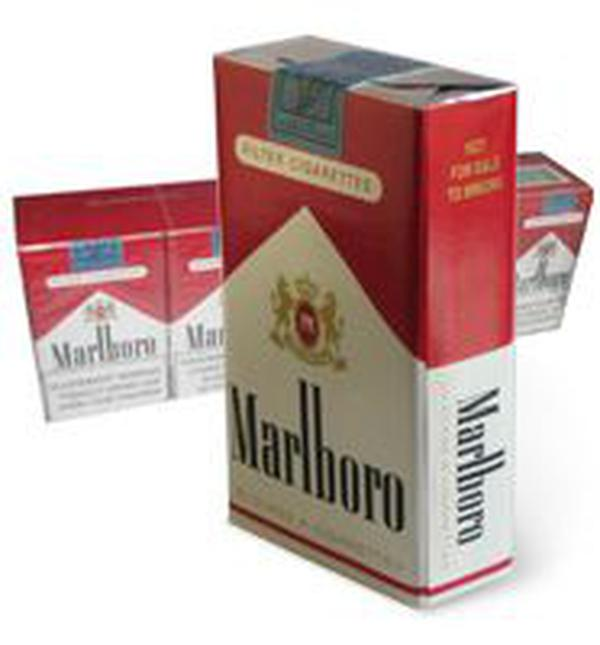marlboro_red: (225, 105, 420, 543), (43, 241, 166, 405), (514, 198, 573, 330)
